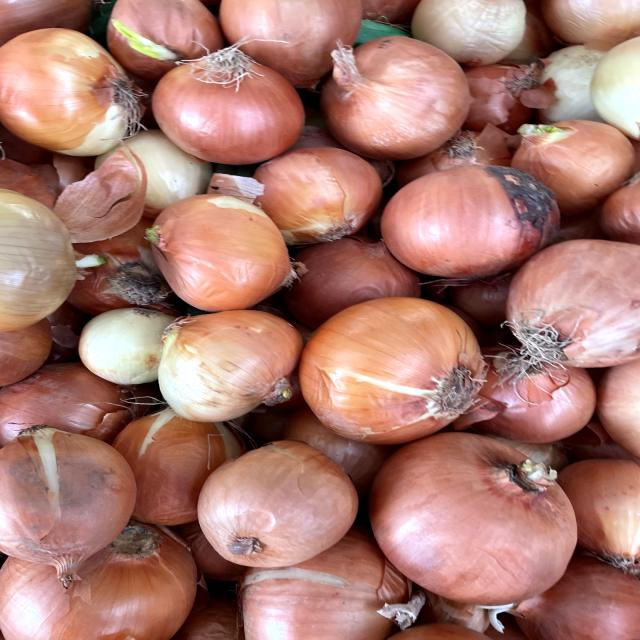onion: (292, 293, 503, 445), (379, 154, 561, 287), (190, 437, 366, 568), (133, 187, 299, 316), (147, 46, 312, 171), (0, 25, 149, 159)
